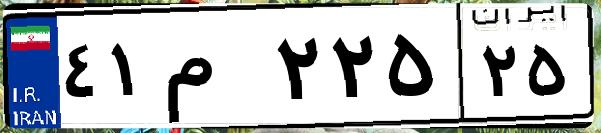1: (110, 28, 158, 98)
2: (270, 28, 330, 110), (330, 28, 385, 110), (475, 38, 525, 113)
4: (57, 26, 110, 100)
5: (385, 28, 445, 110), (525, 38, 570, 115)
م: (158, 20, 270, 120)
